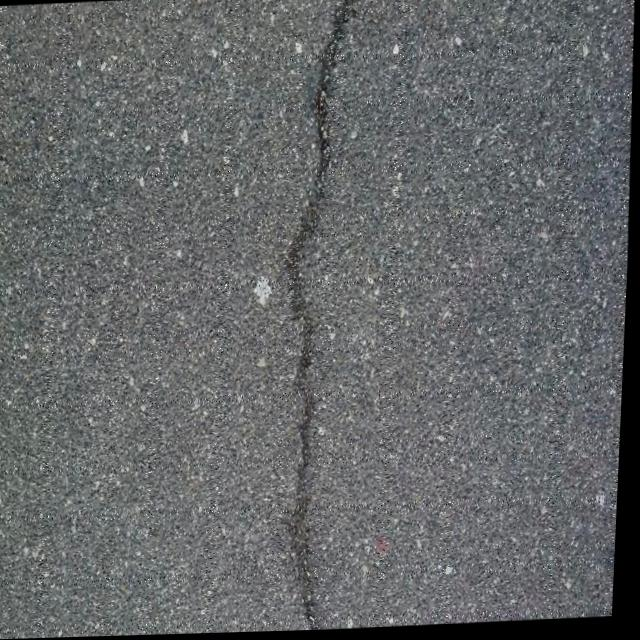Crack: (259, 0, 388, 633)
